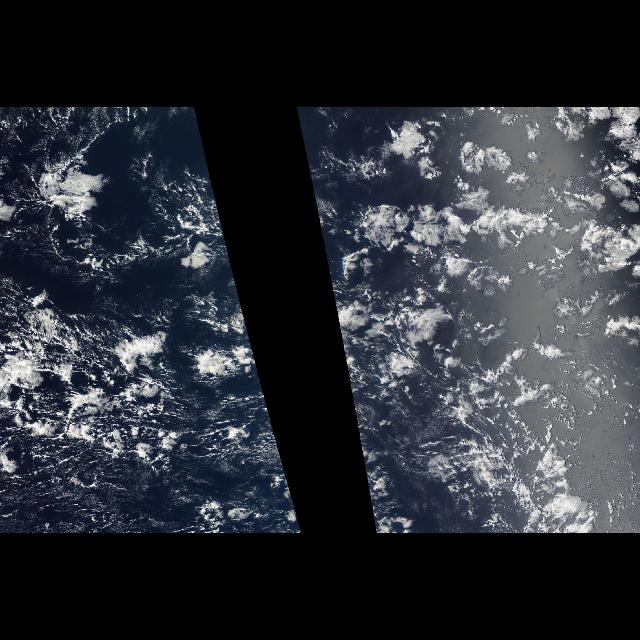Flower: (320, 107, 640, 461), (23, 150, 168, 248)
Gravel: (2, 108, 174, 266), (1, 354, 240, 412)
Sugar: (2, 274, 228, 530)
